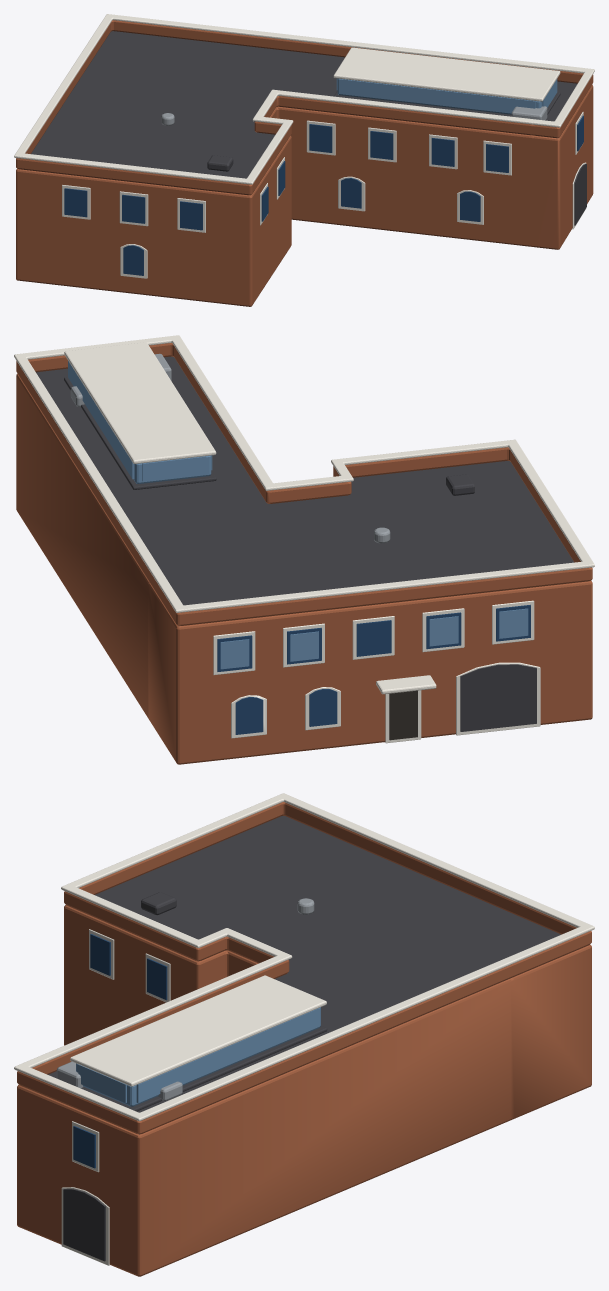
File: mid.glb
3 renders of one model, top to bottom at view 1: azimuth 30°, elevation 25°; view 2: azimuth 150°, elevation 25°; view 3: azimuth 270°, elevation 25°, orthographic. The views are drawn at different scales.
Parts seen in each view (by area): view 1: body, grp_Toy_trim, parapet, grp_Toy_glass, grp_Toy_glassl_Glow, grp_Toy_roofd, grp_Toy_steel, monitor_body; view 2: body, grp_Toy_trim, parapet, grp_Toy_roofd, grp_Toy_glass, grp_Toy_glass_Glow, grp_Toy_glassl_Glow, fr_door_fill, grp_Toy_steel; view 3: body, grp_Toy_trim, parapet, grp_Toy_roofd, grp_Toy_glassl_Glow, grp_Toy_glass, grp_Toy_steel, monitor_body.
Part boxes in pixels (x1,y1,x2,y2): body: (16,31,593,306); grp_Toy_trim: (14,14,594,278); parapet: (16,20,593,195); grp_Toy_glass: (64,115,583,275); grp_Toy_glassl_Glow: (336,78,557,113); grp_Toy_roofd: (207,90,586,225); grp_Toy_steel: (161,106,547,125); monitor_body: (337,78,541,114); body: (16,356,592,764); grp_Toy_trim: (14,335,594,743); parapet: (16,343,592,625); grp_Toy_roofd: (64,377,536,731); grp_Toy_glass: (217,604,530,734); grp_Toy_glass_Glow: (220,608,528,669); grp_Toy_glassl_Glow: (68,361,212,481); fr_door_fill: (389,690,417,740); grp_Toy_steel: (70,353,390,543); body: (17,816,591,1276); grp_Toy_trim: (14,793,594,1265); parapet: (17,802,591,1134); grp_Toy_roofd: (63,892,327,1261); grp_Toy_glassl_Glow: (78,1008,318,1102); grp_Toy_glass: (73,934,167,1168); grp_Toy_steel: (56,898,314,1101); monitor_body: (76,1007,320,1106).
Size of the model in its own units: 34.45 by 8.5 by 25.95.
